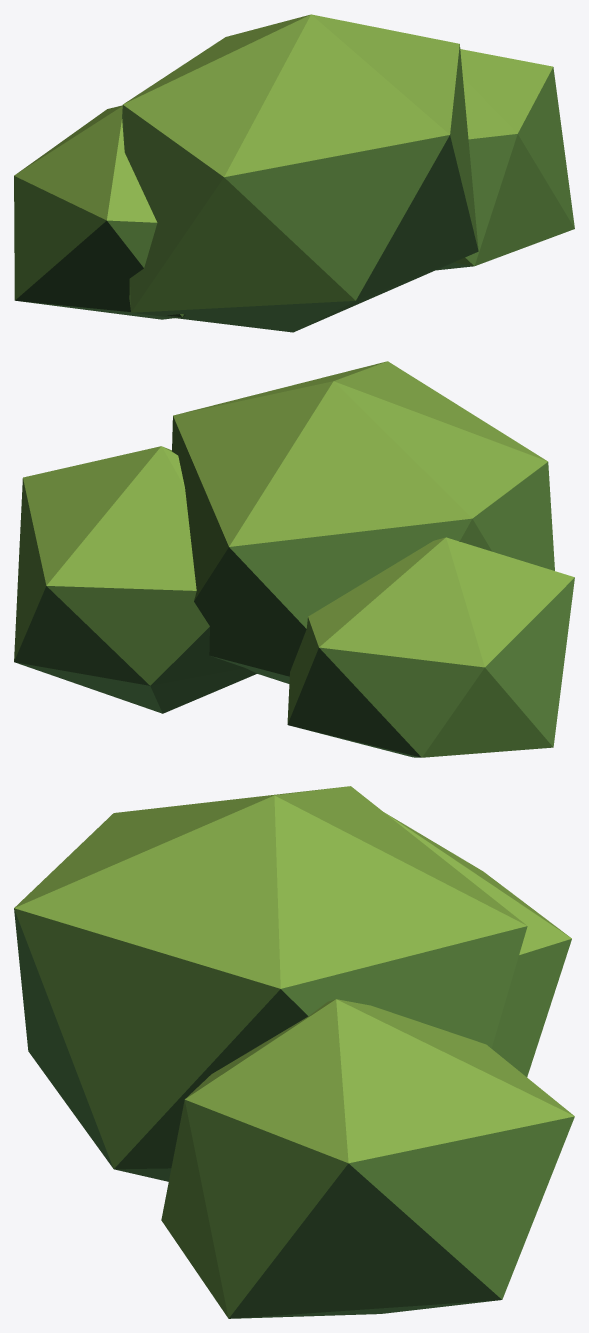
Rendered from SM_Bush_B.fbx.
The picture shows the model from 3 angles, top to bottom: view 1: azimuth 30°, elevation 25°; view 2: azimuth 150°, elevation 25°; view 3: azimuth 270°, elevation 25°; orthographic projection. The views are drawn at different scales.
Parts seen in each view (by area): view 1: SM_Bush_B; view 2: SM_Bush_B; view 3: SM_Bush_B.
Part boxes in pixels (left/top/right/bottom): SM_Bush_B: left=14, top=14, right=574, bottom=332; SM_Bush_B: left=14, top=361, right=574, bottom=757; SM_Bush_B: left=14, top=786, right=574, bottom=1318.
Bounding box in the file's own units: 1.03 × 0.5999 × 0.6996.
